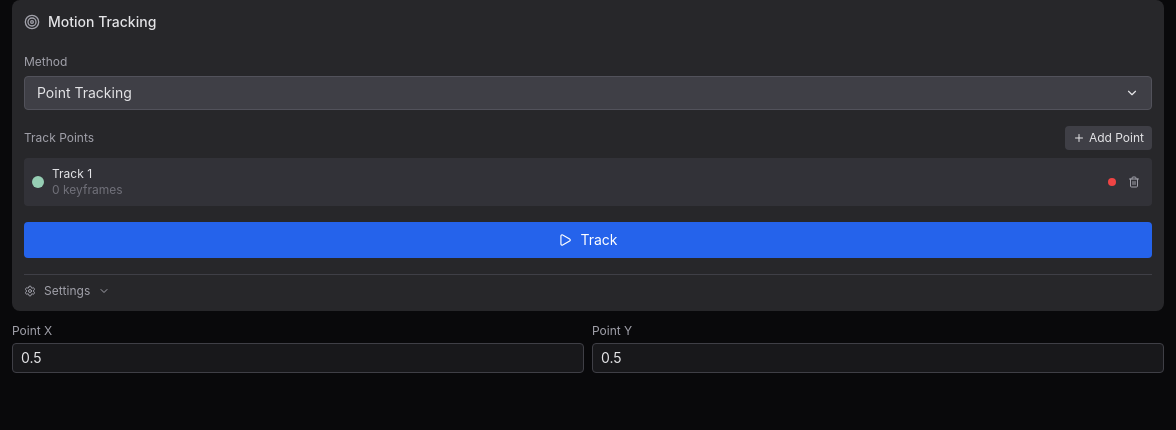
Test: PointTrackingPanel › error display › should clear the previous tracking result when a retry fails
Click the button "Track" at (588, 240), box [24,222,1152,258]
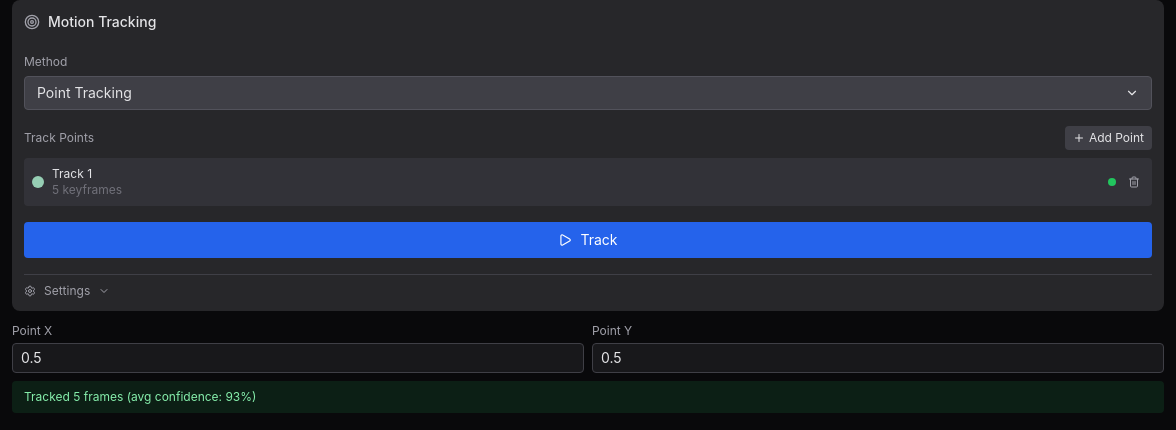
Expected: the text "Tracked 5 frames (avg confidence: 93%)" is shown, [12,381,1164,413]
Click the button "Track" at (588, 240), box [24,222,1152,258]
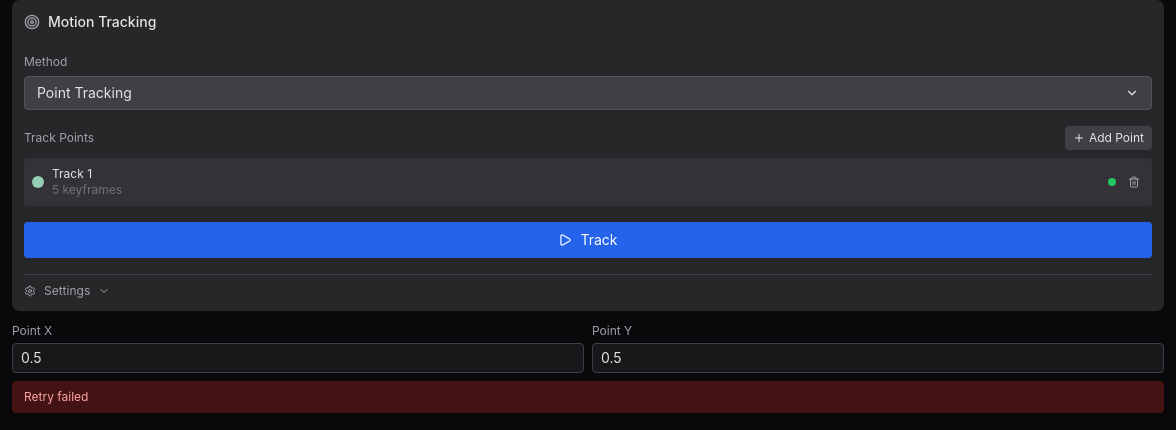
Expected: the text "Retry failed" is shown, [12,381,1164,413]
Expected: the text with test id "tracking-result" is gone
